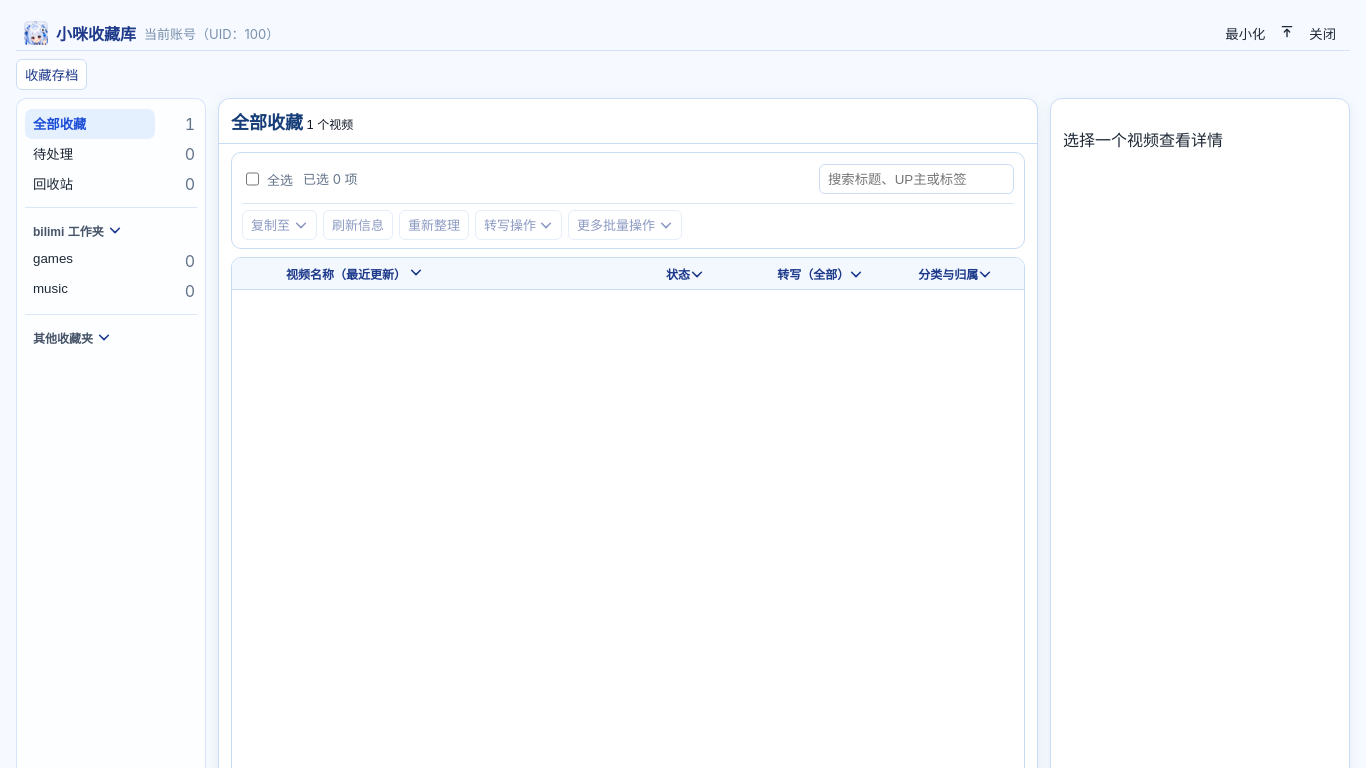
it: FavoriteLibraryApp › keeps the latest folder selected when an older folder request rejects last
Click the button "music".
click(90, 291)  # box [25,276,155,306]
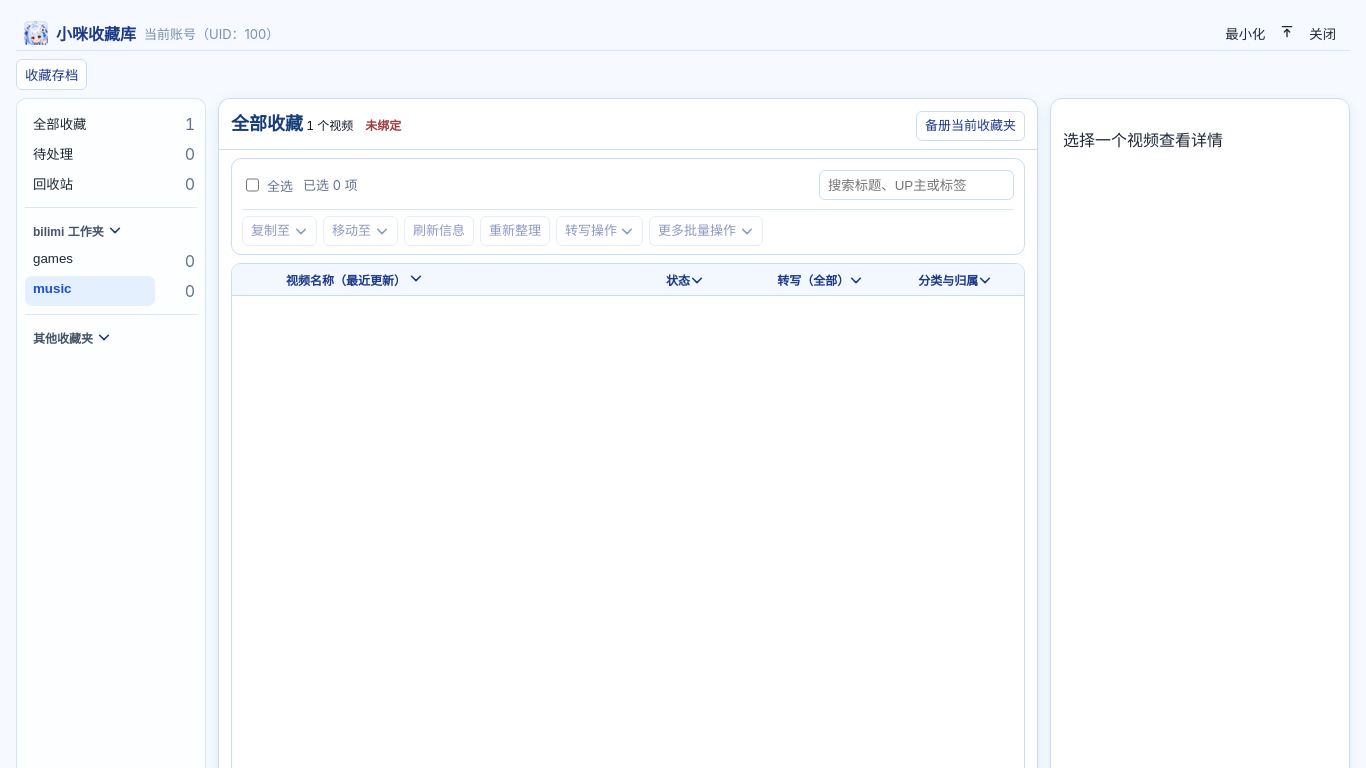
Click the button "games".
click(90, 261)  # box [25,246,155,276]
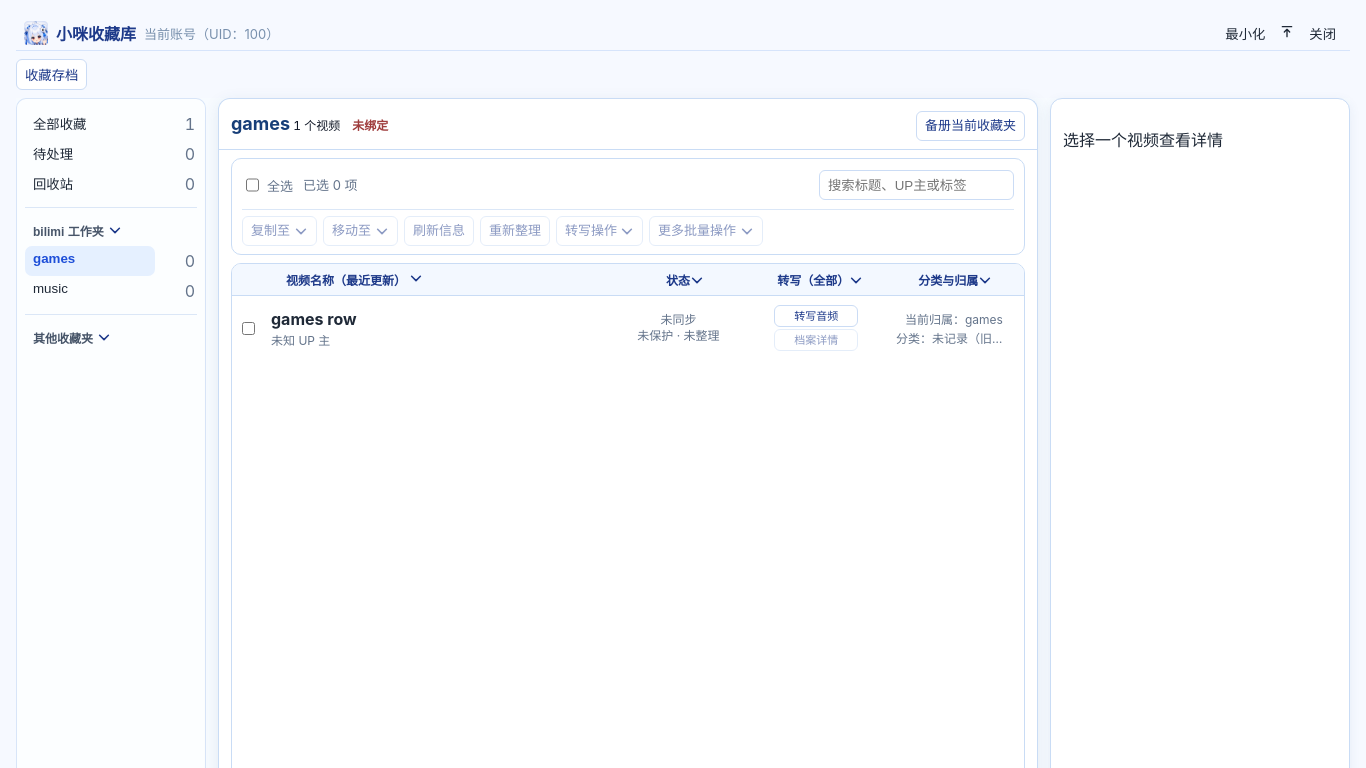
expect the text "games row" is shown: met, box [271,308,357,328]
expect the heading "games 1 个视频" is shown: met, box [231,112,340,136]
